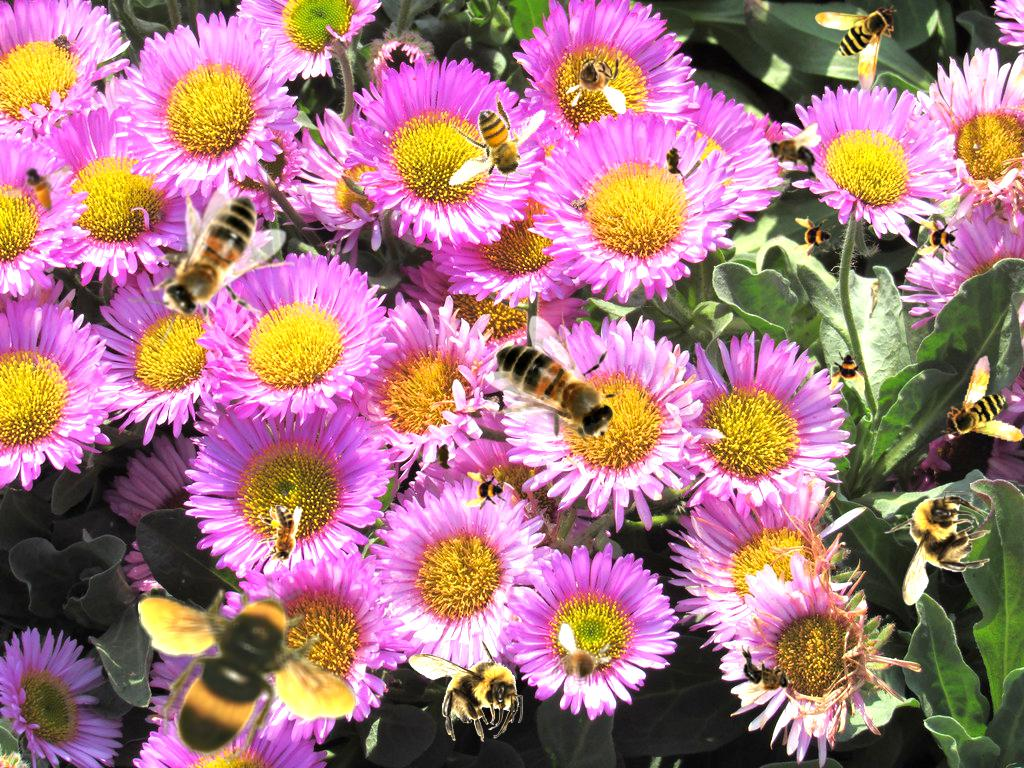Bee: (138, 573, 358, 764), (483, 306, 645, 473), (128, 184, 295, 346), (426, 75, 561, 217), (408, 635, 523, 742), (884, 491, 991, 606), (940, 350, 1024, 450), (815, 5, 897, 93), (541, 620, 620, 706), (565, 44, 626, 114), (2, 163, 73, 213), (768, 123, 821, 185), (738, 645, 791, 707), (257, 505, 302, 571), (464, 470, 508, 514), (828, 349, 872, 393), (792, 216, 836, 260), (917, 218, 961, 262), (434, 436, 456, 476), (663, 141, 685, 181)
